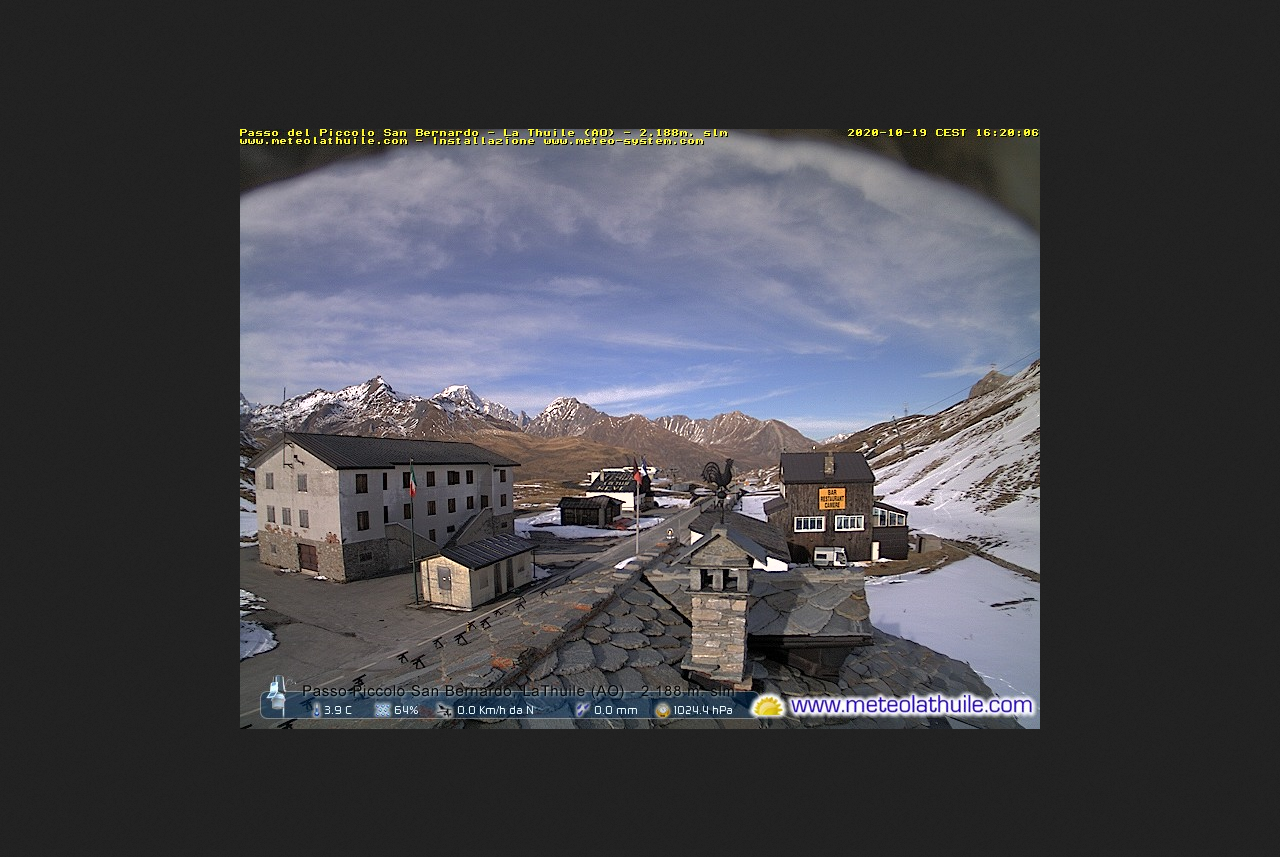no: (404, 464, 420, 496), (632, 464, 643, 482)
